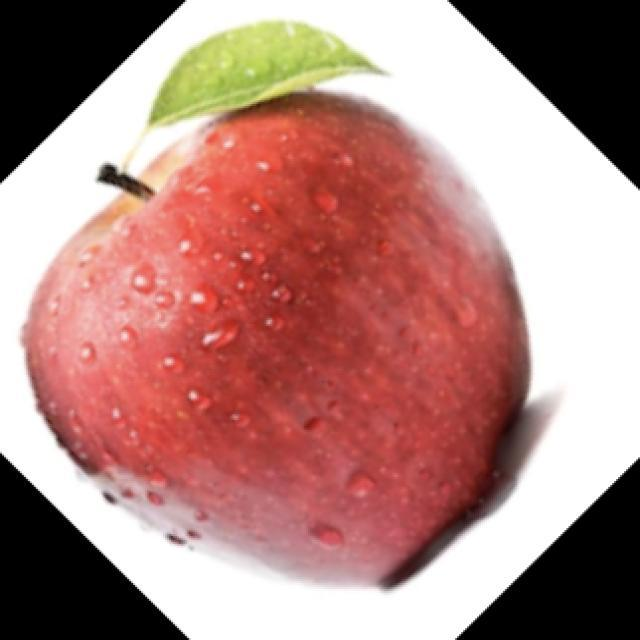Apple: (20, 87, 532, 588)
